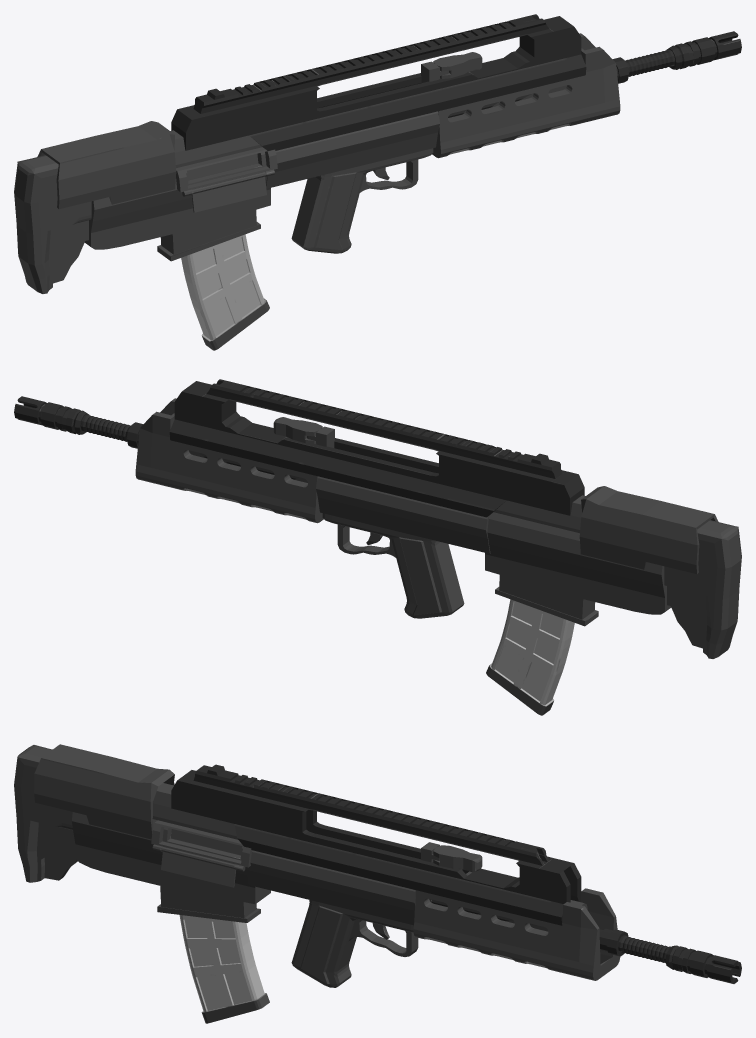
File: VHS 2_finish_export.fbx
3 renders of one model, top to bottom at view 1: azimuth 30°, elevation 25°; view 2: azimuth 150°, elevation 25°; view 3: azimuth 330°, elevation 25°, orthographic.
Visible parts, largest first — view 1: Cylinder; view 2: Cylinder; view 3: Cylinder.
Part boxes in pixels (x1=…): Cylinder: x1=14, y1=14, x2=741, y2=350; Cylinder: x1=14, y1=379, x2=741, y2=715; Cylinder: x1=14, y1=744, x2=741, y2=1023.
Bounding box in the file's own units: 0.838 × 0.2838 × 0.0615.
